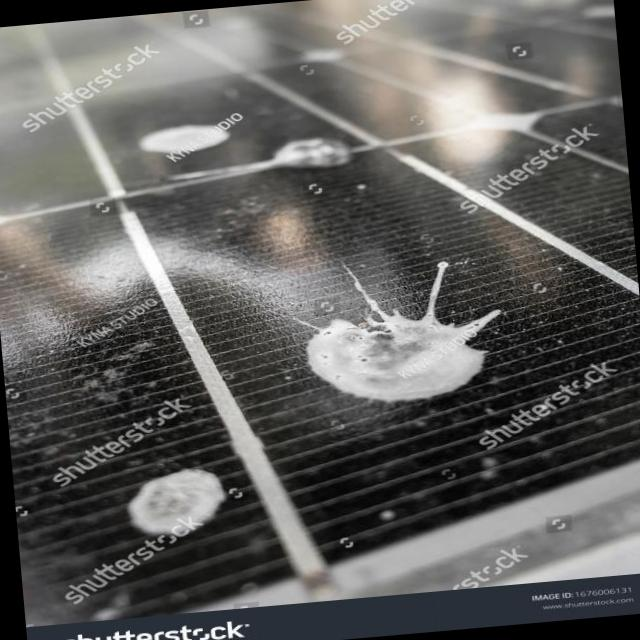faulty: (132, 138, 640, 559), (0, 208, 287, 628), (77, 68, 367, 188)
